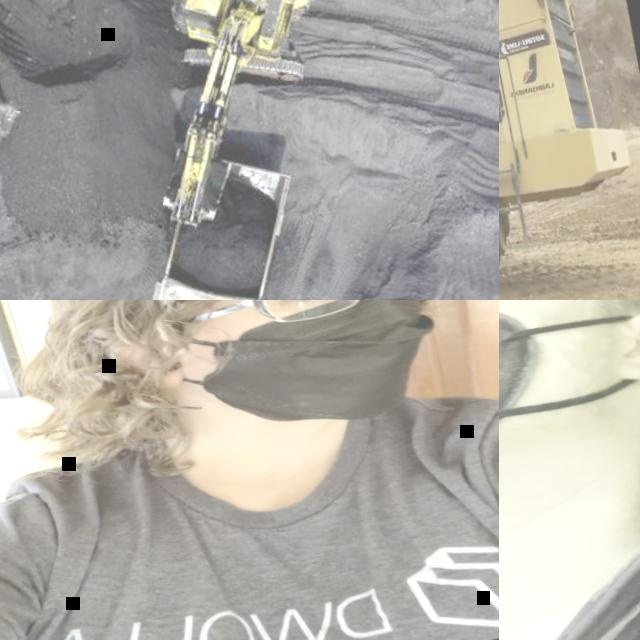Mask: (164, 300, 450, 451), (499, 300, 640, 513)
NO-Safety Vest: (0, 379, 499, 640), (499, 494, 640, 640)
Person: (0, 300, 499, 640), (499, 300, 640, 640)
machinery: (91, 0, 379, 240), (499, 0, 640, 300), (123, 136, 329, 300)
